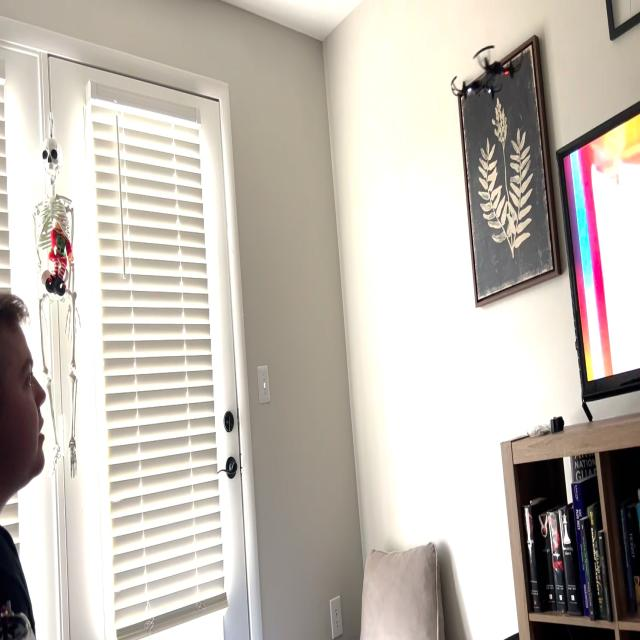drone: (444, 30, 526, 104)
